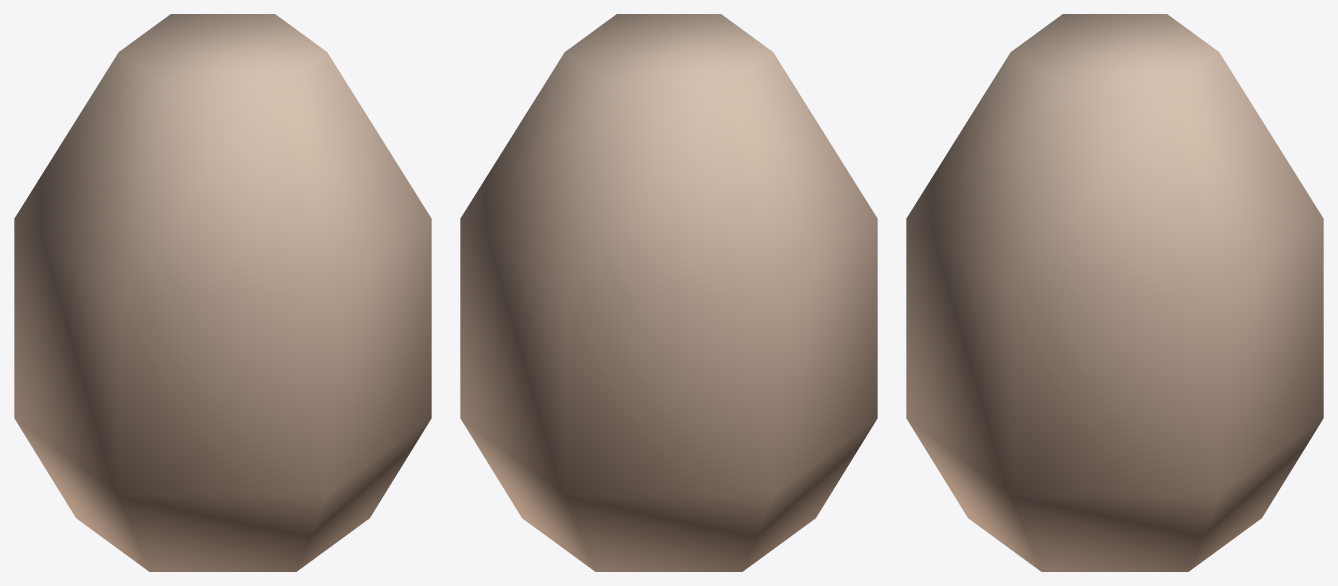
Rendered from egg.glb.
3 views of the same model, side by side, from view 1: azimuth 30°, elevation 25°; view 2: azimuth 150°, elevation 25°; view 3: azimuth 270°, elevation 25° (orthographic).
Parts seen in each view (by area): view 1: egg; view 2: egg; view 3: egg.
Part boxes in pixels (x1,y1,x2,y2): egg: (14,14,431,571); egg: (460,14,877,571); egg: (906,14,1323,571).
Size of the model in its own units: 0.1161 by 0.1652 by 0.134.
